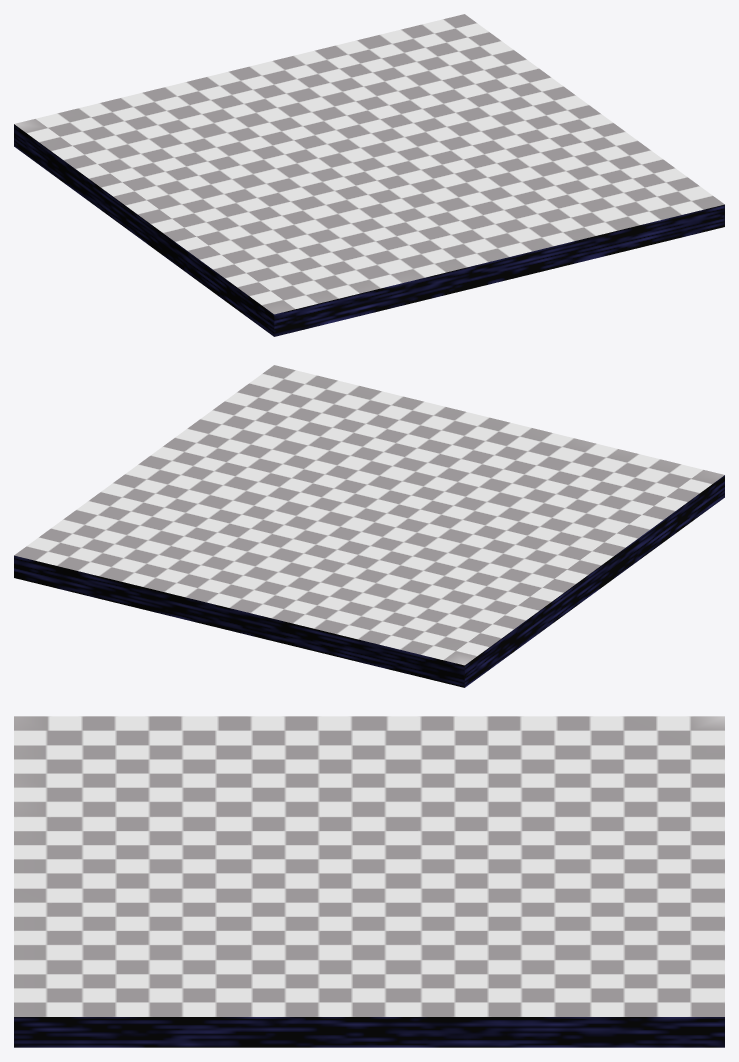
The model's file is Table.fbx.
The picture shows the model from 3 angles, top to bottom: view 1: azimuth 30°, elevation 25°; view 2: azimuth 150°, elevation 25°; view 3: azimuth 270°, elevation 25°; orthographic projection. The views are drawn at different scales.
Visible parts, largest first — view 1: Плоскость; view 2: Плоскость; view 3: Плоскость.
Part boxes in pixels (box(x1,y1,x2,y2)): Плоскость: box(14, 14, 724, 336); Плоскость: box(14, 365, 724, 687); Плоскость: box(14, 716, 724, 1047).
Size of the model in its own units: 21 by 1 by 21.
